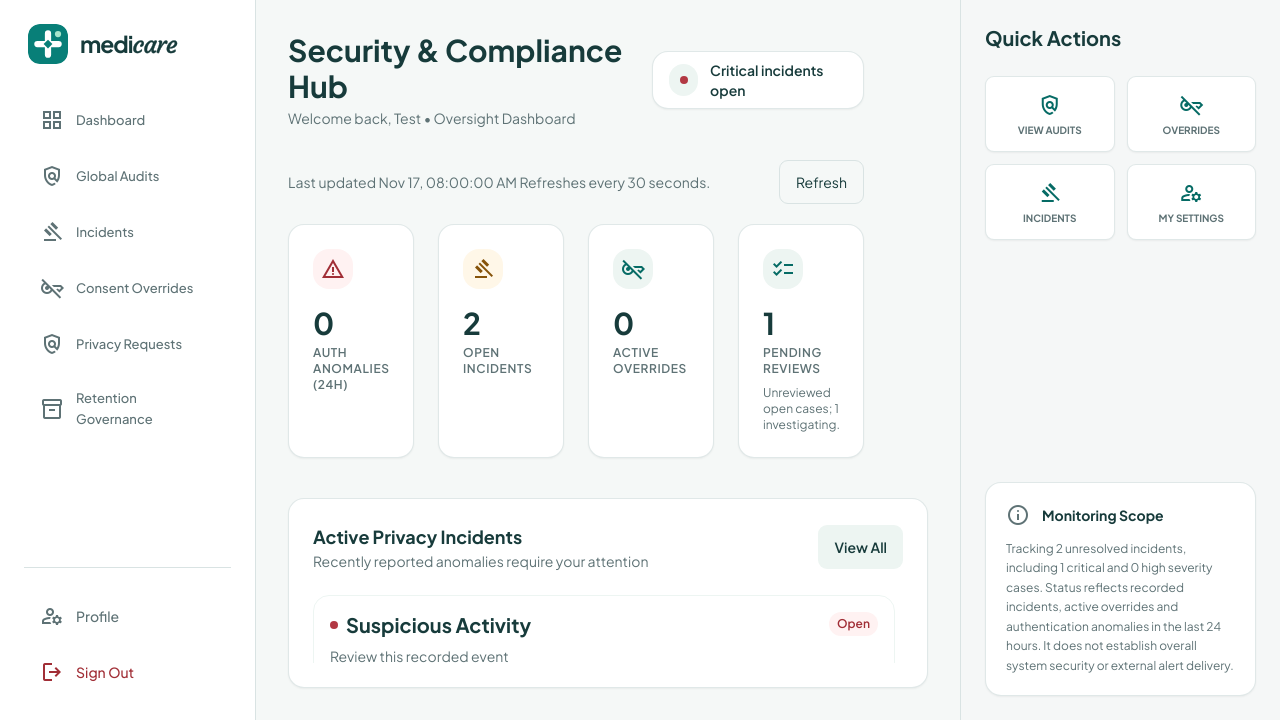
Test case: manual refresh replaces old results and rejects unsuccessful API envelopes
Expected: the text "Critical incidents open" is shown, x1=710 y1=61 x2=824 y2=99
Click the button with aria-label "Refresh dashboard" at (822, 182), box x1=779 y1=160 x2=864 y2=204
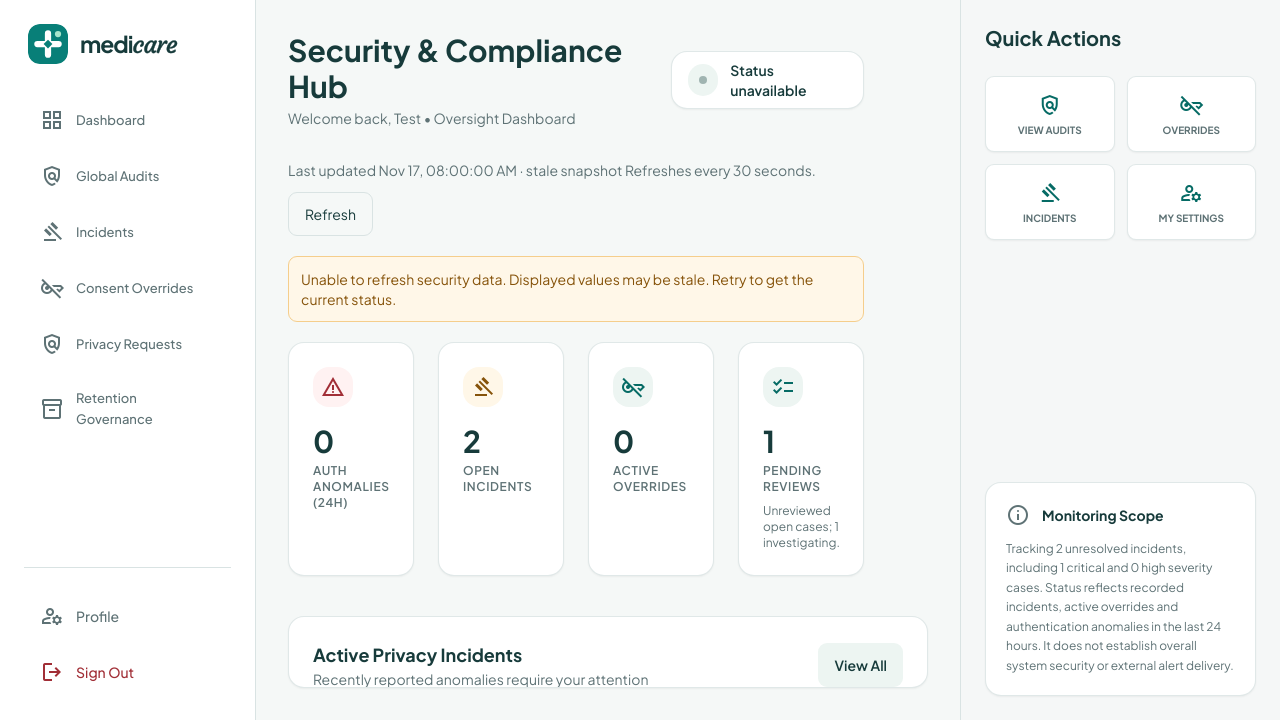
Result: the 2nd message is shown at x1=288 y1=256 x2=864 y2=322
Click the button with aria-label "Refresh dashboard" at (330, 214), box x1=288 y1=192 x2=373 y2=236
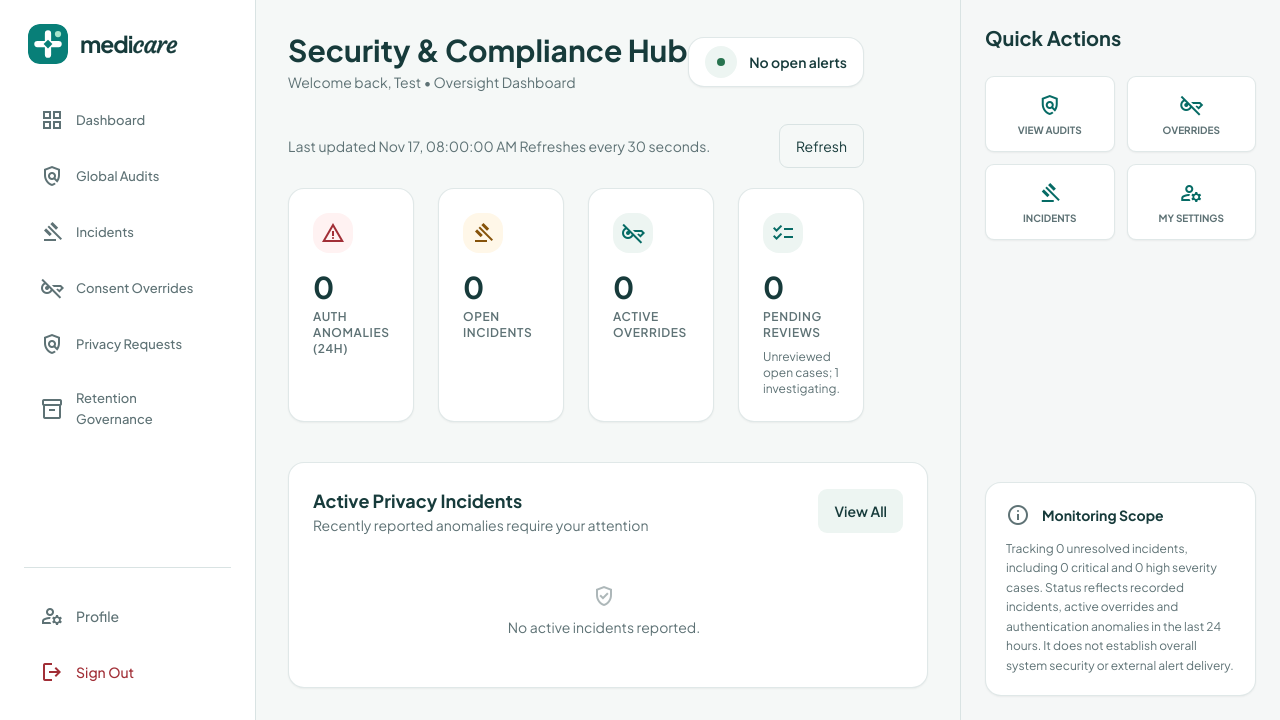
Result: the text "No open alerts" is shown at x1=749 y1=52 x2=847 y2=72
Result: the text "No active incidents reported." is shown at x1=508 y1=616 x2=700 y2=638
